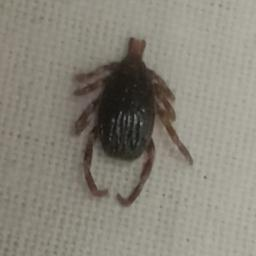Rhipicephalus sanguineus: (70, 36, 194, 208)
